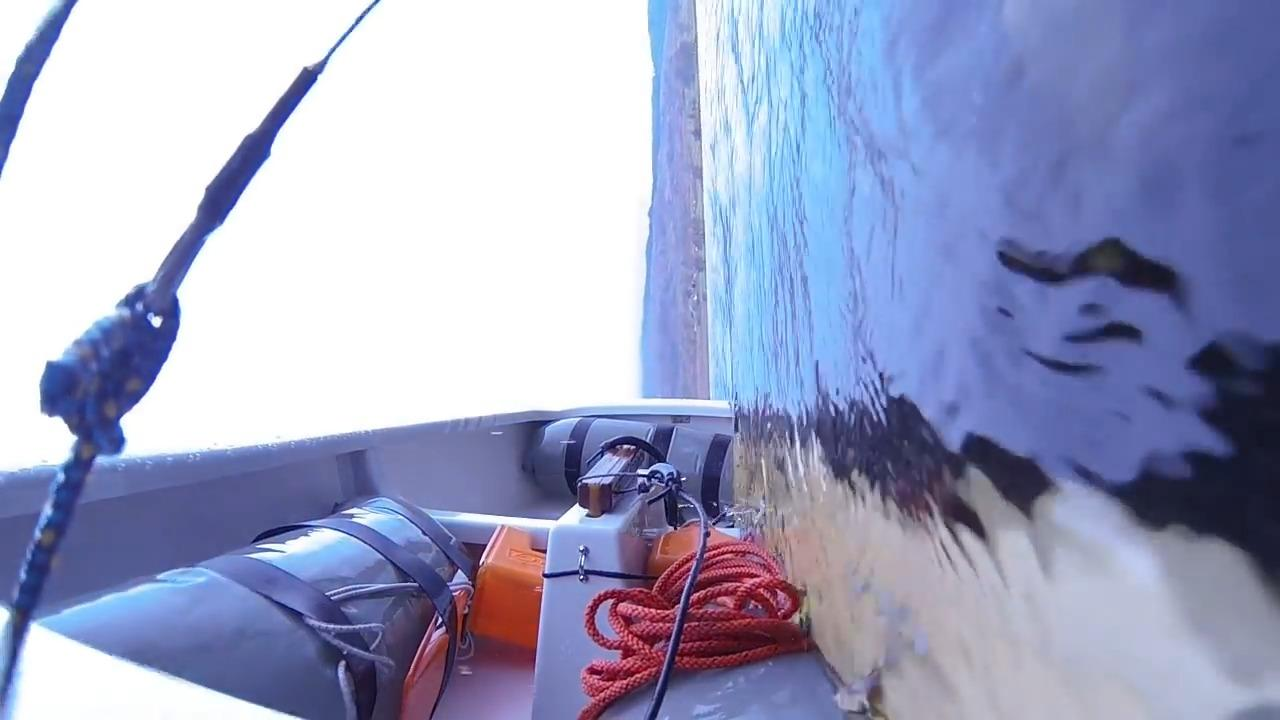boat: (16, 60, 798, 718)
land: (641, 0, 708, 401)
sea: (678, 0, 1280, 720), (0, 0, 656, 503)
